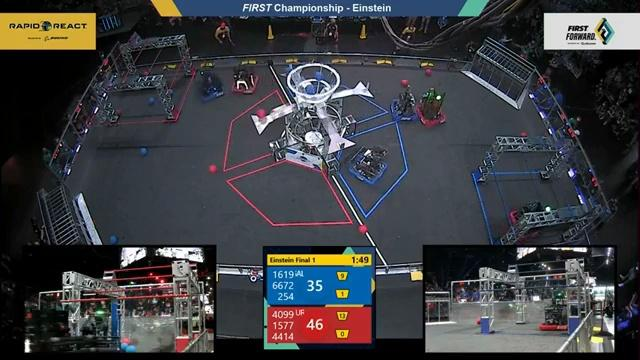robot: (346, 142, 391, 187), (507, 199, 551, 239), (415, 85, 448, 128), (390, 84, 420, 123), (195, 67, 226, 103), (229, 62, 260, 97)
